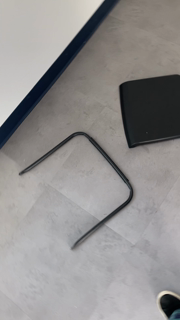C pipe: (17, 130, 137, 253)
